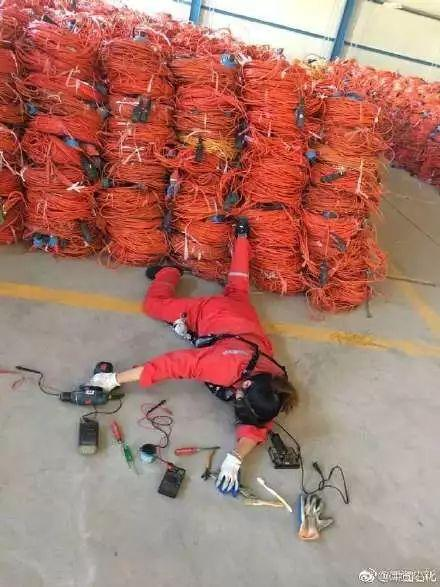fall: (76, 225, 305, 500)
